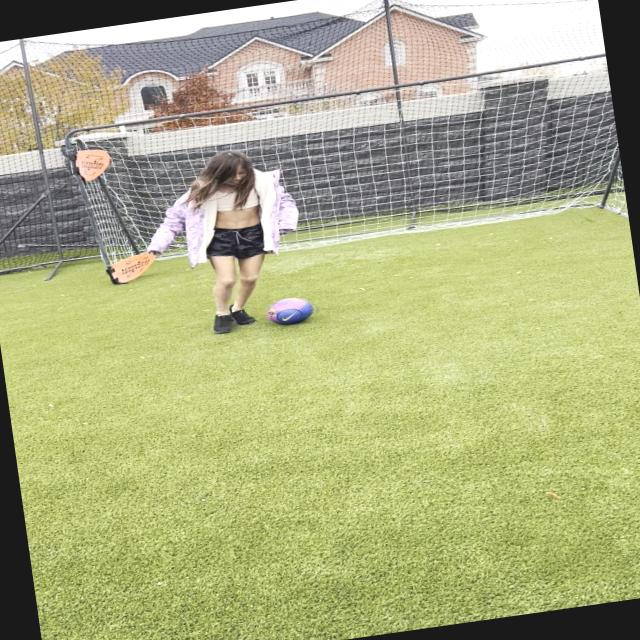Soccer Ball: (266, 294, 316, 328)
